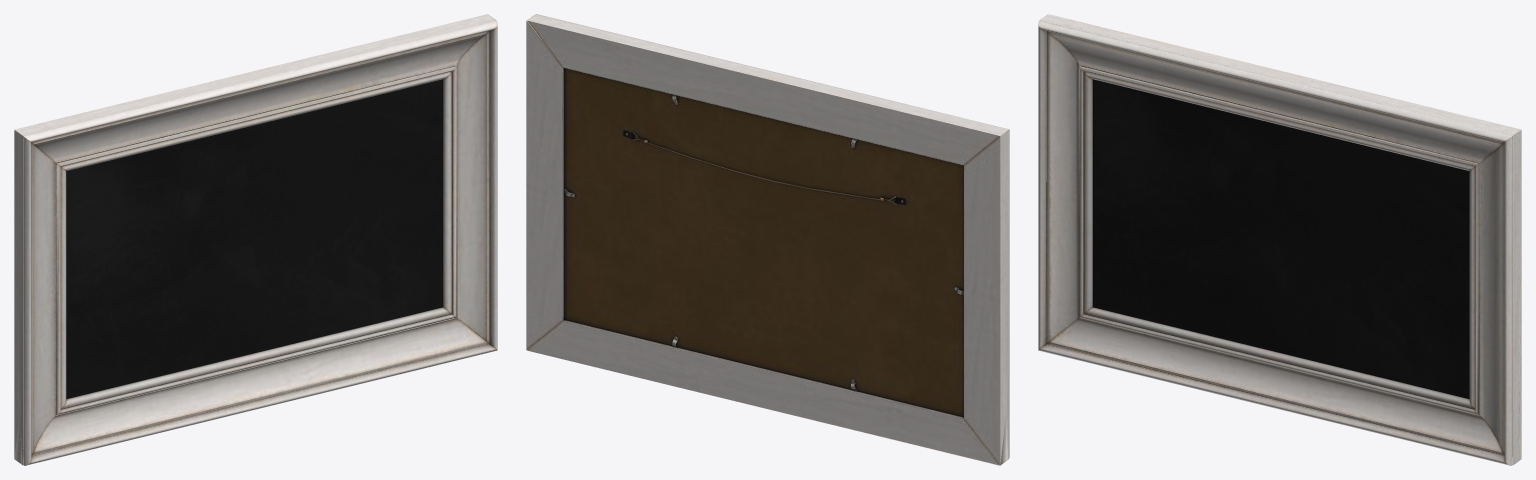
File: hanging_picture_frame_02.glb
3 views of the same model, side by side, from view 1: azimuth 30°, elevation 25°; view 2: azimuth 150°, elevation 25°; view 3: azimuth 330°, elevation 25° (orthographic).
Parts seen in each view (by area): view 1: hanging_picture_frame_02; view 2: hanging_picture_frame_02; view 3: hanging_picture_frame_02.
Part boxes in pixels (x1,y1,x2,y2): hanging_picture_frame_02: (14,14,497,465); hanging_picture_frame_02: (526,14,1009,465); hanging_picture_frame_02: (1038,14,1521,465).
Bounding box in the file's own units: 0.7518 × 0.5 × 0.0328.
Materials: 3 (3 with a texture image).
